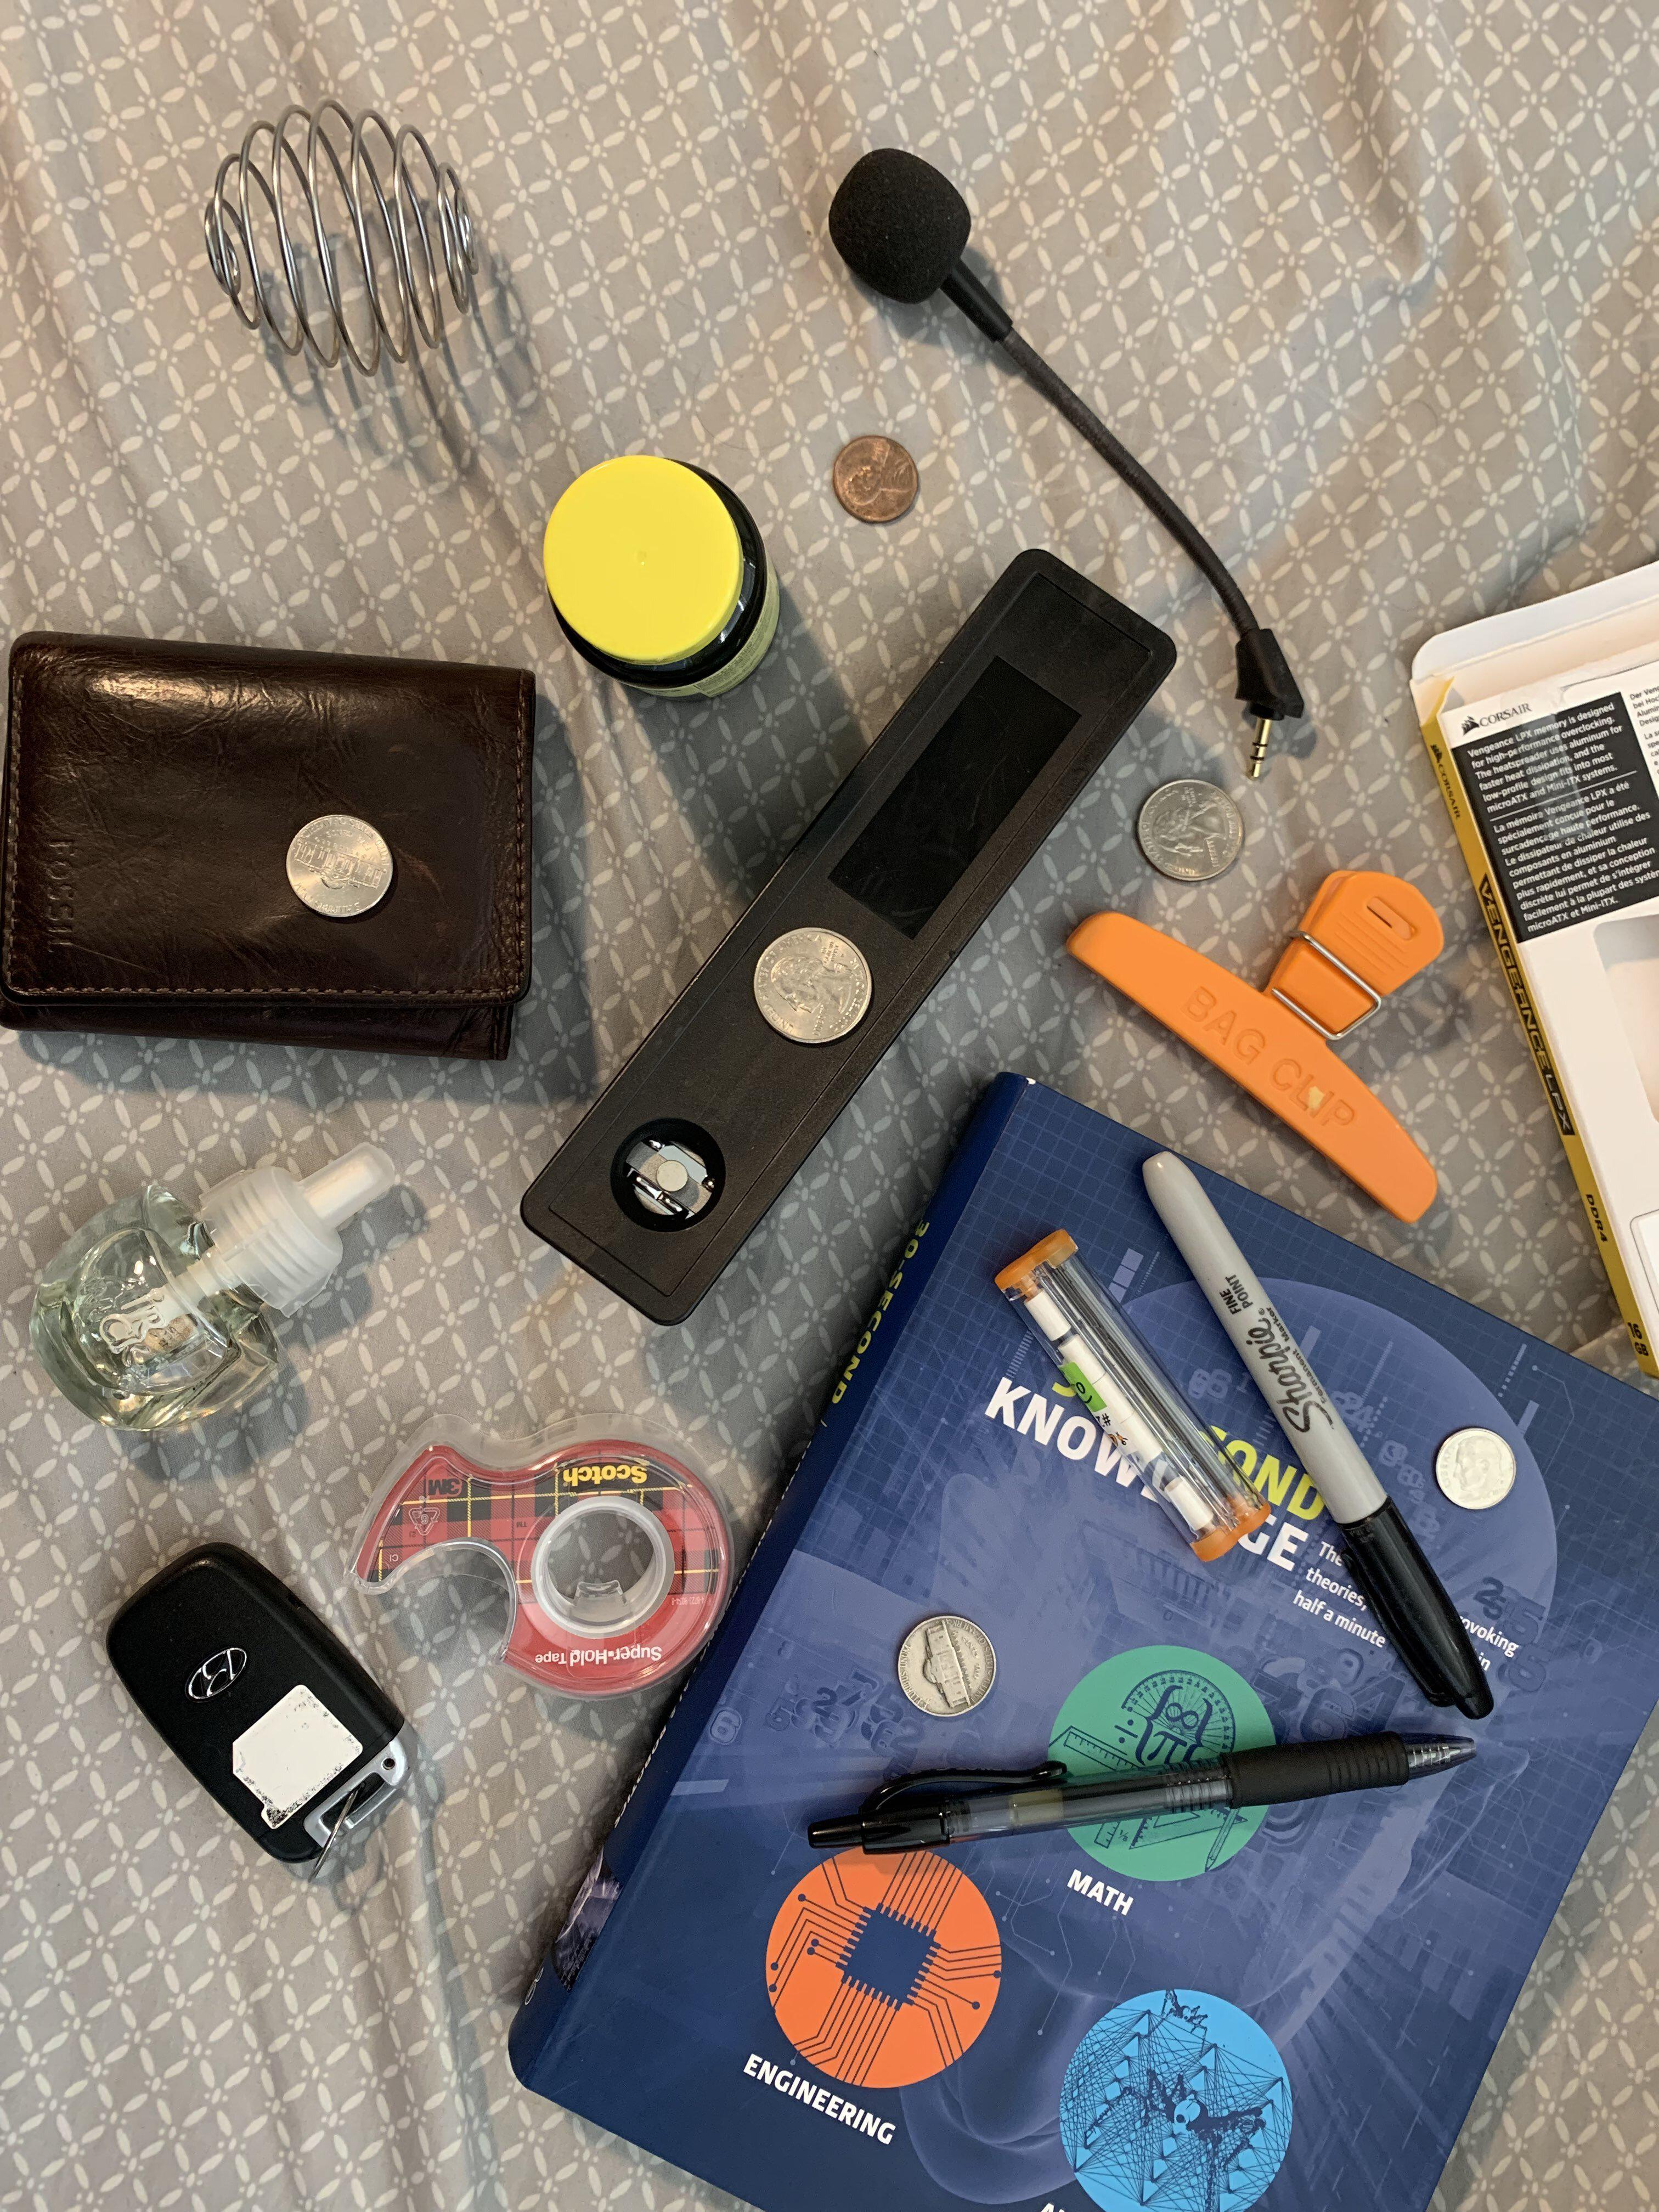Dime: (1417, 1400, 1532, 1533)
Nickel: (272, 803, 418, 960), (875, 1597, 1014, 1740)
Penny: (814, 423, 943, 535)
Quarter: (728, 902, 906, 1069), (1114, 761, 1265, 906)
